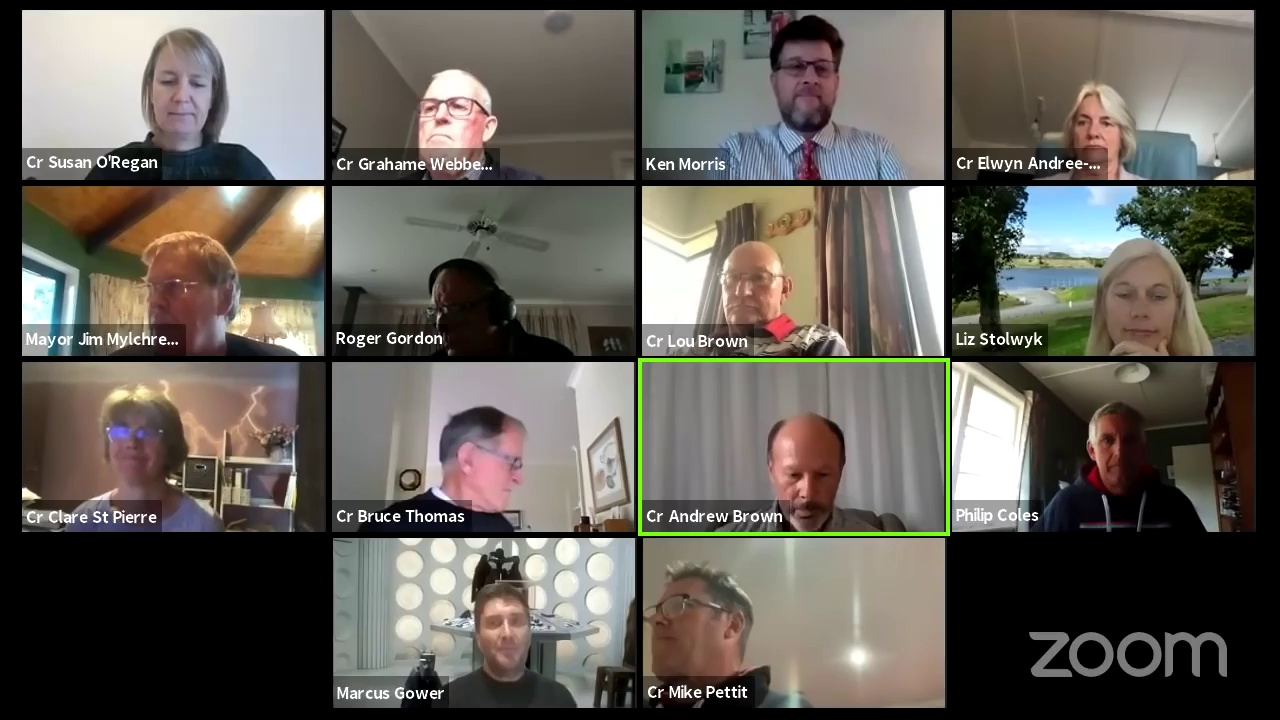Distracted: (651, 555, 748, 685), (434, 406, 544, 507), (766, 415, 851, 530), (140, 34, 229, 143), (1088, 243, 1183, 342), (417, 256, 516, 342)
Not Distracted: (403, 57, 506, 162), (142, 235, 242, 337), (766, 29, 858, 133), (93, 389, 183, 492), (1075, 392, 1160, 492), (1060, 82, 1147, 170), (716, 241, 799, 328), (480, 587, 542, 675)
